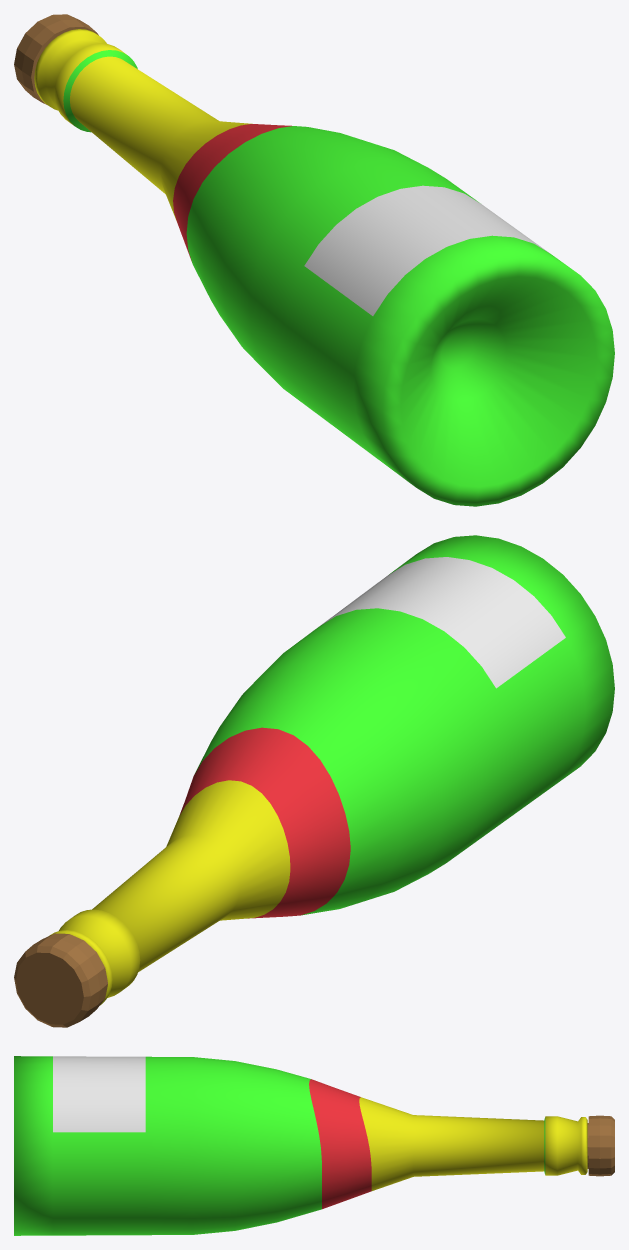
File: tow_gun3.fbx
3 views of the same model, one above another, from view 1: azimuth 30°, elevation 25°; view 2: azimuth 150°, elevation 25°; view 3: azimuth 270°, elevation 25° (orthographic). The views are drawn at different scales.
Parts seen in each view (by area): view 1: Bottle, Cork; view 2: Bottle, Cork; view 3: Bottle, Cork.
Part boxes in pixels (x1,y1,x2,y2): Bottle: (34, 29, 614, 506); Cork: (14, 14, 98, 104); Bottle: (48, 535, 614, 1005); Cork: (14, 933, 107, 1027); Bottle: (14, 1056, 587, 1235); Cork: (587, 1115, 614, 1176).
Bounding box in the file's own units: 379 × 379 × 1267.
